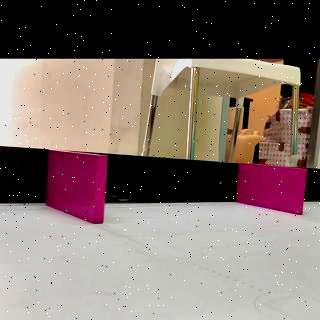xparking: (48, 154, 104, 226), (242, 167, 306, 216)
